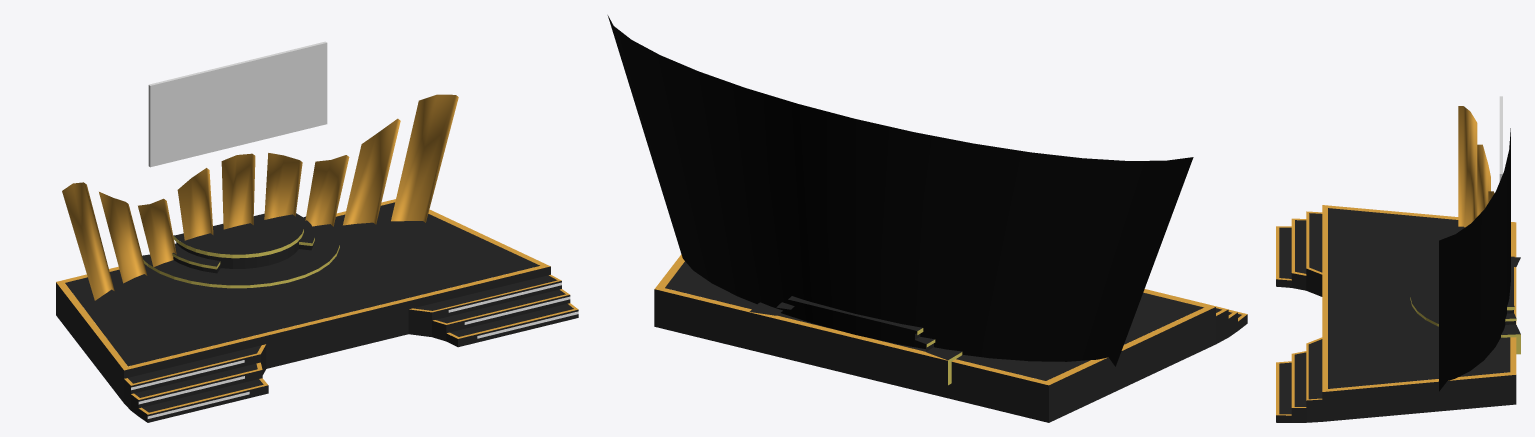
File: beachStage.glb
The picture shows the model from 3 angles, left to right: view 1: azimuth 30°, elevation 25°; view 2: azimuth 150°, elevation 25°; view 3: azimuth 270°, elevation 25°; orthographic projection. The views are drawn at different scales.
Parts seen in each view (by area): view 1: lantai, gold, Material, light, light_yellow; view 2: Bahan.002, lantai, gold; view 3: lantai, Bahan.002, gold, Material, light_yellow.
Part boxes in pixels (x1,y1,x2,y2): lantai: (56,202,578,422); gold: (56,94,578,414); Material: (148,41,327,167); light: (131,282,578,418); light_yellow: (143,229,339,288); Bahan.002: (607,15,1193,366); lantai: (654,261,1247,422); gold: (654,254,1247,385); lantai: (1276,208,1520,422); Bahan.002: (1439,128,1510,391); gold: (1276,106,1516,415); Material: (1499,96,1502,181); light_yellow: (1410,297,1520,354).
Size of the model in its own units: 19.34 by 8 by 8.83.
